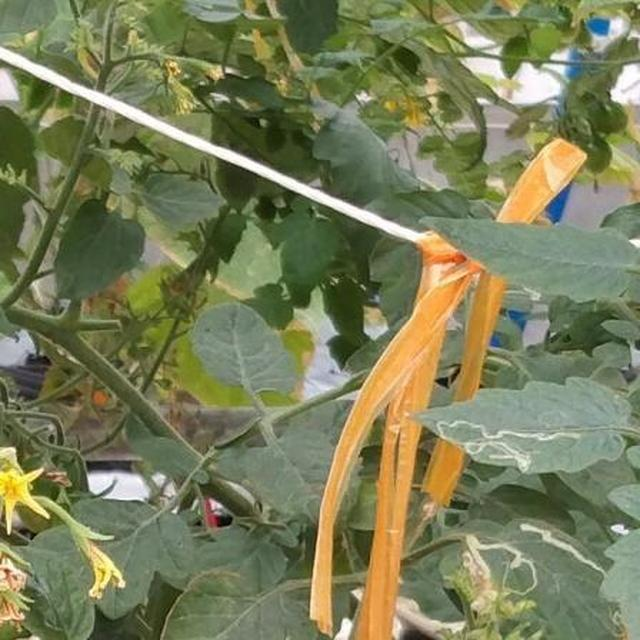Leaf Miner: (134, 137, 640, 640)
